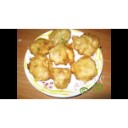bonda: (28, 53, 53, 80), (73, 33, 101, 55), (29, 36, 54, 56), (74, 58, 97, 79), (51, 68, 71, 89), (51, 44, 73, 63), (47, 28, 72, 44)
